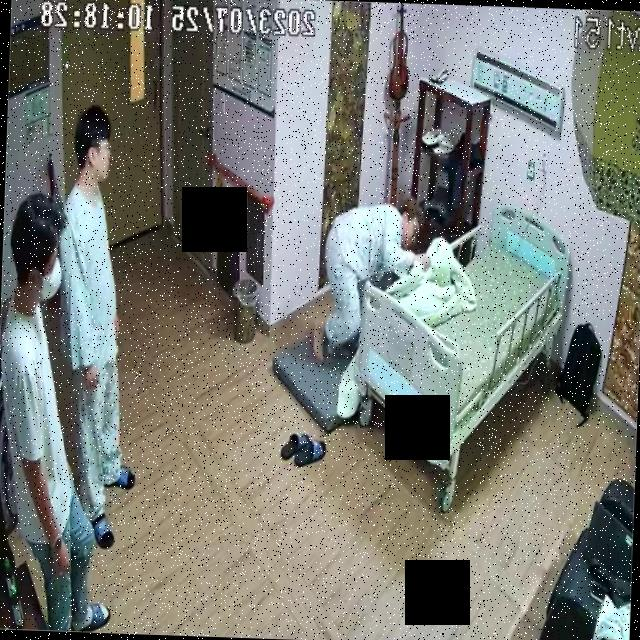danger: (310, 194, 424, 361)
patient: (51, 100, 148, 550), (310, 194, 424, 361)
